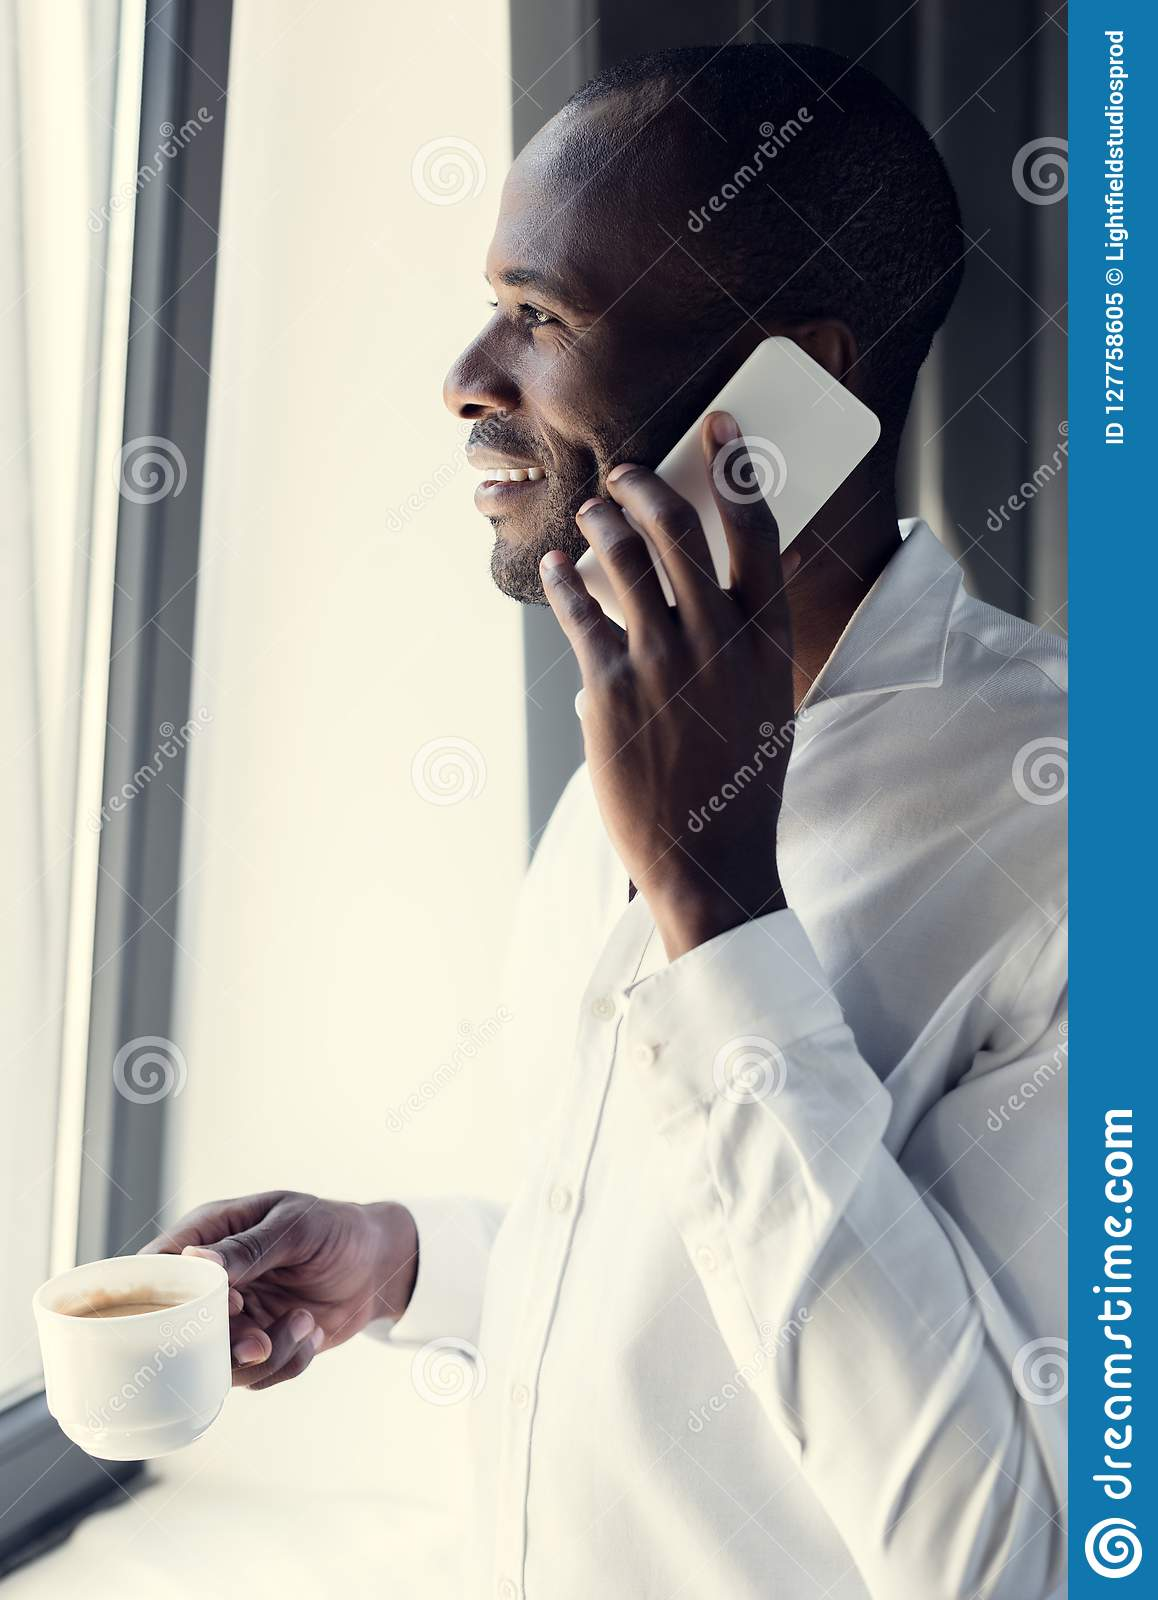phone: (577, 338, 877, 655)
talk: (446, 241, 882, 928)
